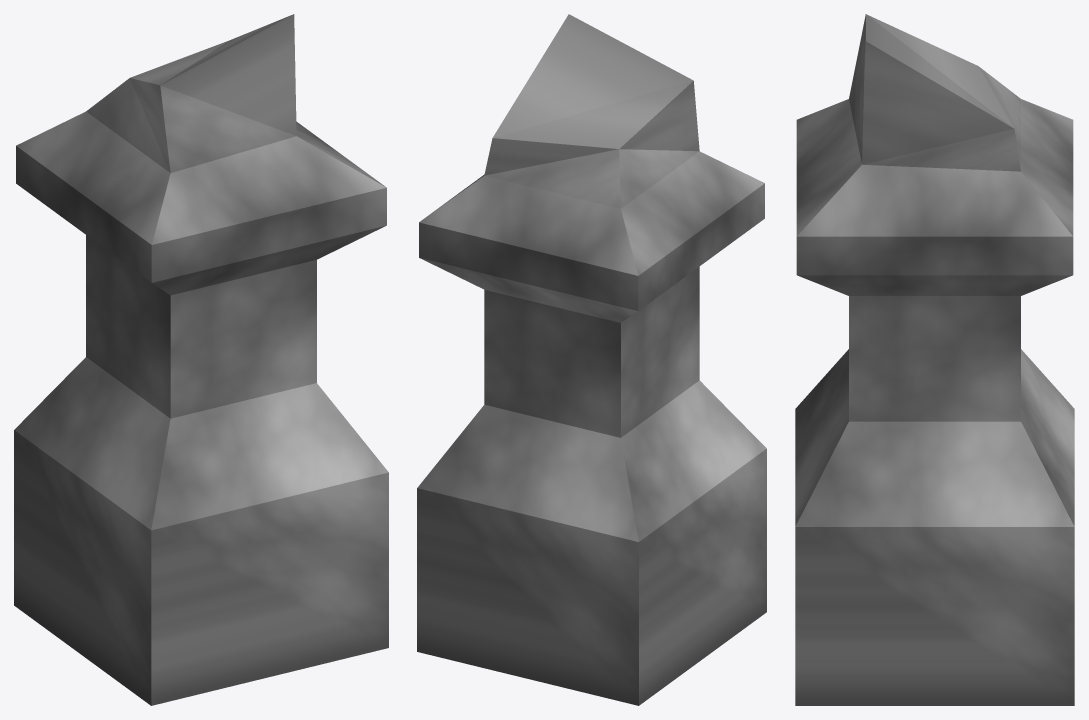
File: BrokenStoneBit.fbx
3 views of the same model, side by side, from view 1: azimuth 30°, elevation 25°; view 2: azimuth 150°, elevation 25°; view 3: azimuth 270°, elevation 25° (orthographic). The views are drawn at different scales.
Parts seen in each view (by area): view 1: BrokenStoneBit; view 2: BrokenStoneBit; view 3: BrokenStoneBit.
Boxes of the visible parts, x1,y1,x2,y2 form: BrokenStoneBit: [14, 14, 388, 705]; BrokenStoneBit: [417, 14, 766, 705]; BrokenStoneBit: [795, 14, 1074, 705].
Bounding box in the file's own units: 0.3501 × 0.8777 × 0.3501.
